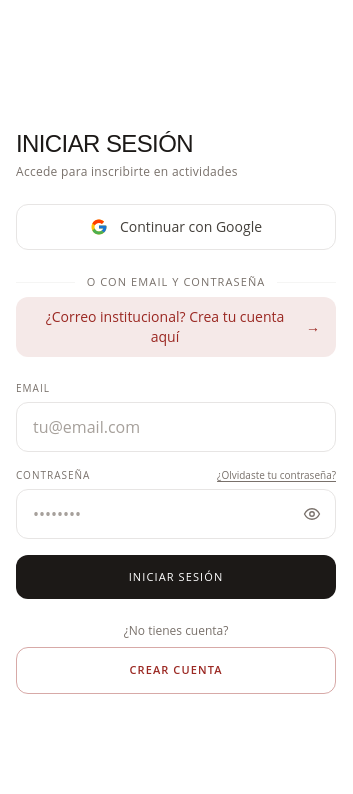
AuthPage — cada error tiene salida › email ya registrado al crear cuenta: botón para iniciar sesión con ese email
Click the button "¿Correo institucional? Crea tu cuenta aquí →". click: {"x": 176, "y": 326}
box: [16, 296, 336, 356]
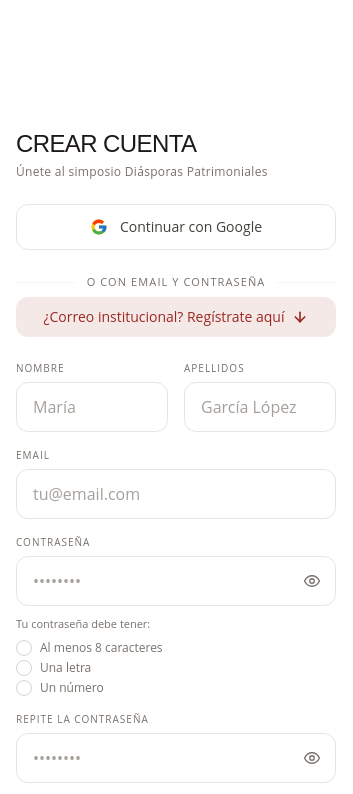
Type "Ana" into the field labelled "Nombre". click: {"x": 92, "y": 406}
box: [16, 382, 168, 432]
Type "García" into the field labelled "Apellidos". click: {"x": 260, "y": 406}
box: [184, 382, 336, 432]
Type "ana@ull.edu.es" into the field with placeholder "tu@email.com". click: {"x": 176, "y": 494}
box: [16, 468, 336, 518]
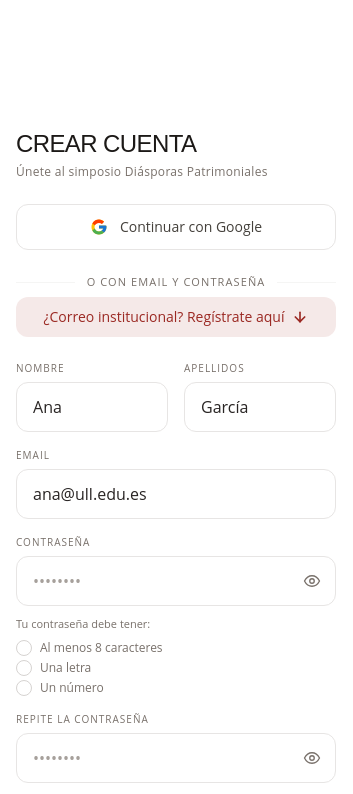
Type "viaje2canarias" into the password field labelled "Contraseña". click: {"x": 176, "y": 580}
box: [16, 556, 336, 606]
(page scrolled)
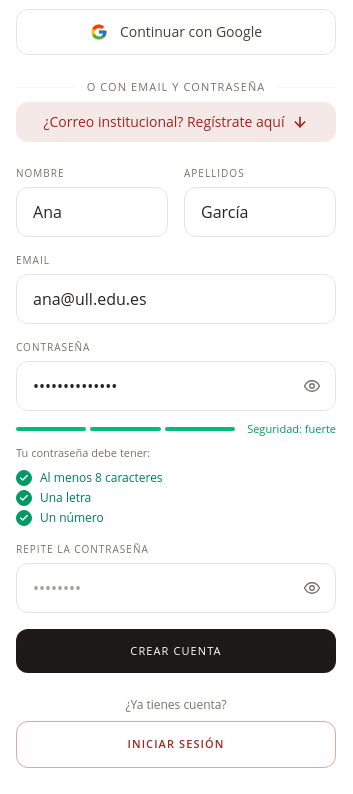
Type "viaje2canarias" into the password field labelled "Repite la contraseña". click: {"x": 176, "y": 588}
box: [16, 562, 336, 612]
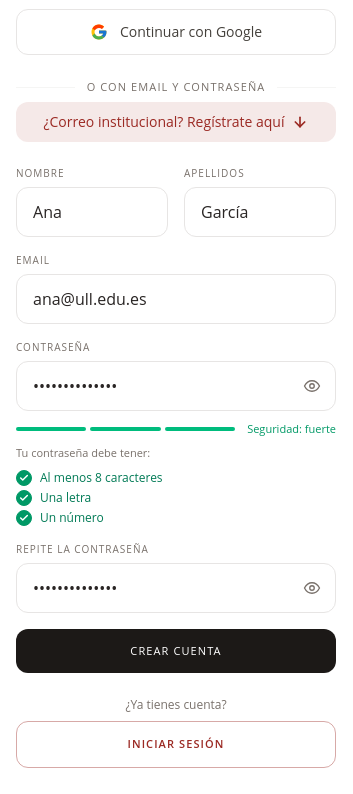
Click the button "Crear cuenta". click: {"x": 176, "y": 651}
box: [16, 628, 336, 673]
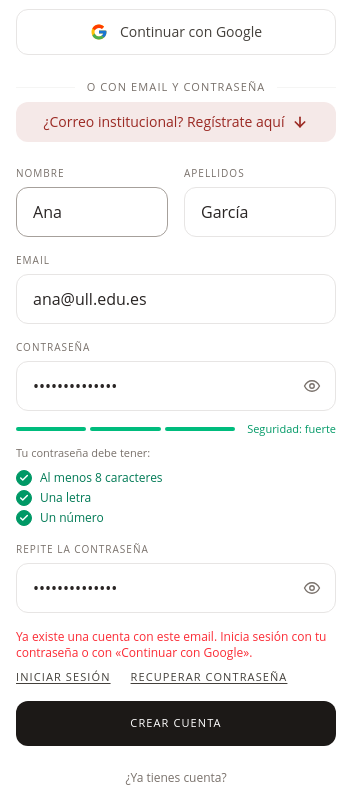
Result: the text "Ya existe una cuenta con este email" is shown at [16, 628, 326, 660]
Result: the button "Recuperar contraseña" is shown at [131, 668, 288, 685]
Click the button "Iniciar sesión" below "Repite la contraseña". click: {"x": 63, "y": 677}
box: [16, 668, 111, 685]
(page scrolled)
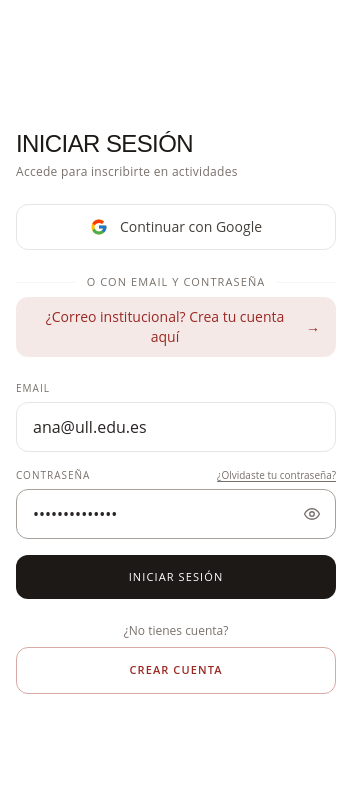
Result: the heading "Iniciar sesión" is shown at [16, 130, 193, 157]
